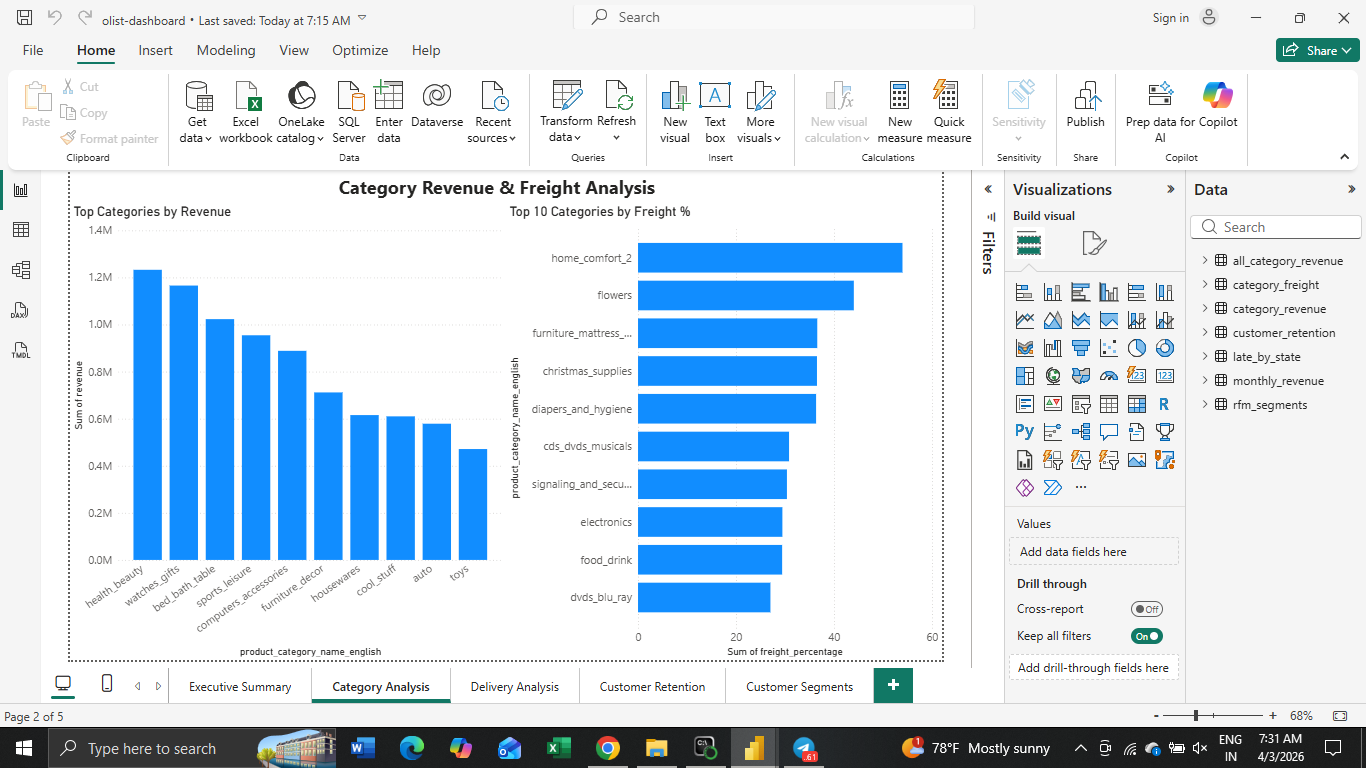

The dashboard page shown, as its layout file describes it:
{"tool":"powerbi","page":{"name":"Category Analysis","canvas":[1280,720],"ordinal":1},"visuals":[{"type":"clusteredColumnChart","title":"Top Categories by Revenue","fields":{"Y":["Sum(category_revenue.revenue)"],"Category":["category_revenue.product_category_name_english"]},"box":[0,50,640,670],"z":0},{"type":"clusteredBarChart","title":"Top 10 Categories by Freight %","fields":{"Category":["category_freight.product_category_name_english"],"Y":["Sum(category_freight.freight_percentage)"]},"box":[640,50,640,670],"z":1000},{"type":"textbox","box":[0,1.7,1261.7,48.3],"z":2000}]}

Visuals, with their boxes on the page's 1280x720 design canvas (x1, y1, x2, y2). These are canvas units, not pixel positions in the 1366x768 screenshot, which may show the page scaled, cropped or inside an application window:
"Top Categories by Revenue" clusteredColumnChart: box=[0, 50, 640, 720]
"Top 10 Categories by Freight %" clusteredBarChart: box=[640, 50, 1280, 720]
textbox: box=[0, 2, 1262, 50]
